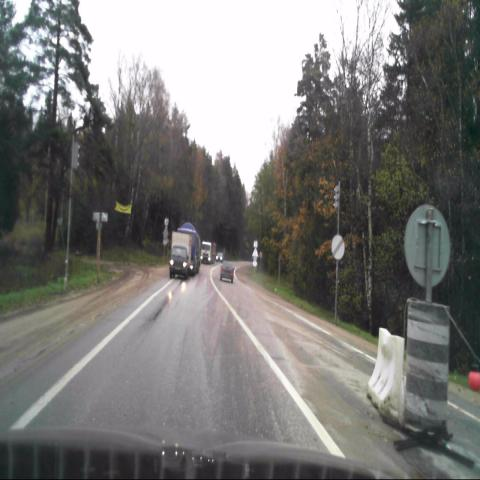3_31: (330, 233, 345, 260)
